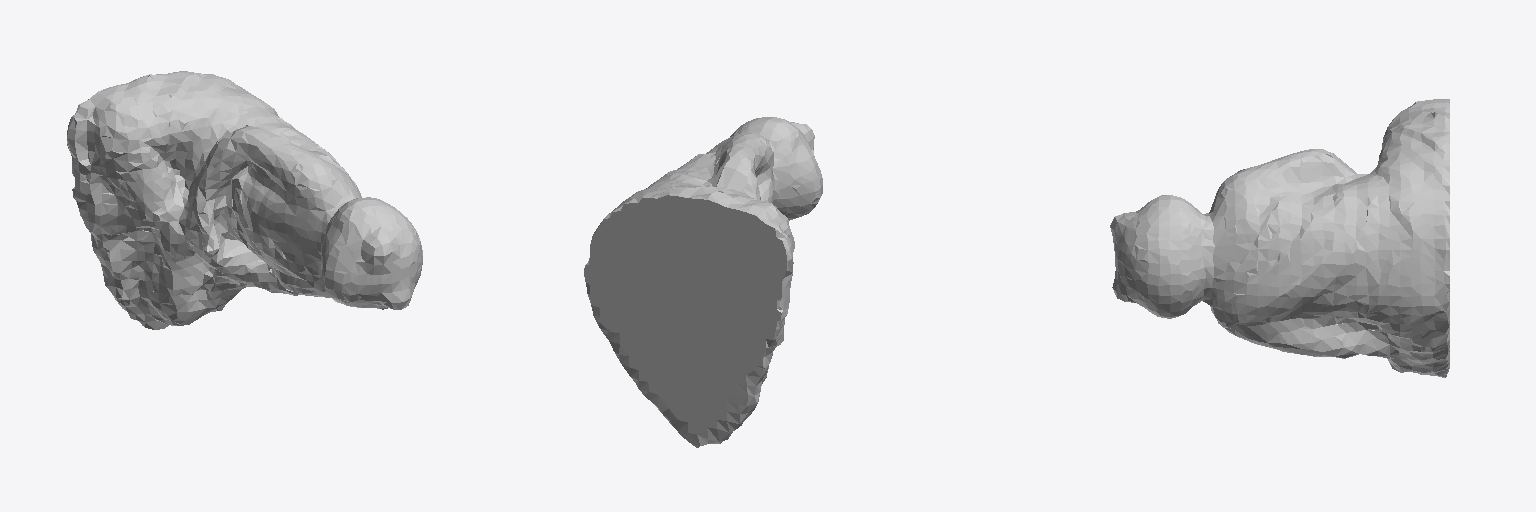
Rendered from 190698-frog_statue_Clustering_90pct.obj.
3 views of the same model, side by side, from view 1: azimuth 30°, elevation 25°; view 2: azimuth 150°, elevation 25°; view 3: azimuth 270°, elevation 25° (orthographic).
Size of the model in its own units: 0.7288 by 0.8367 by 0.9973.